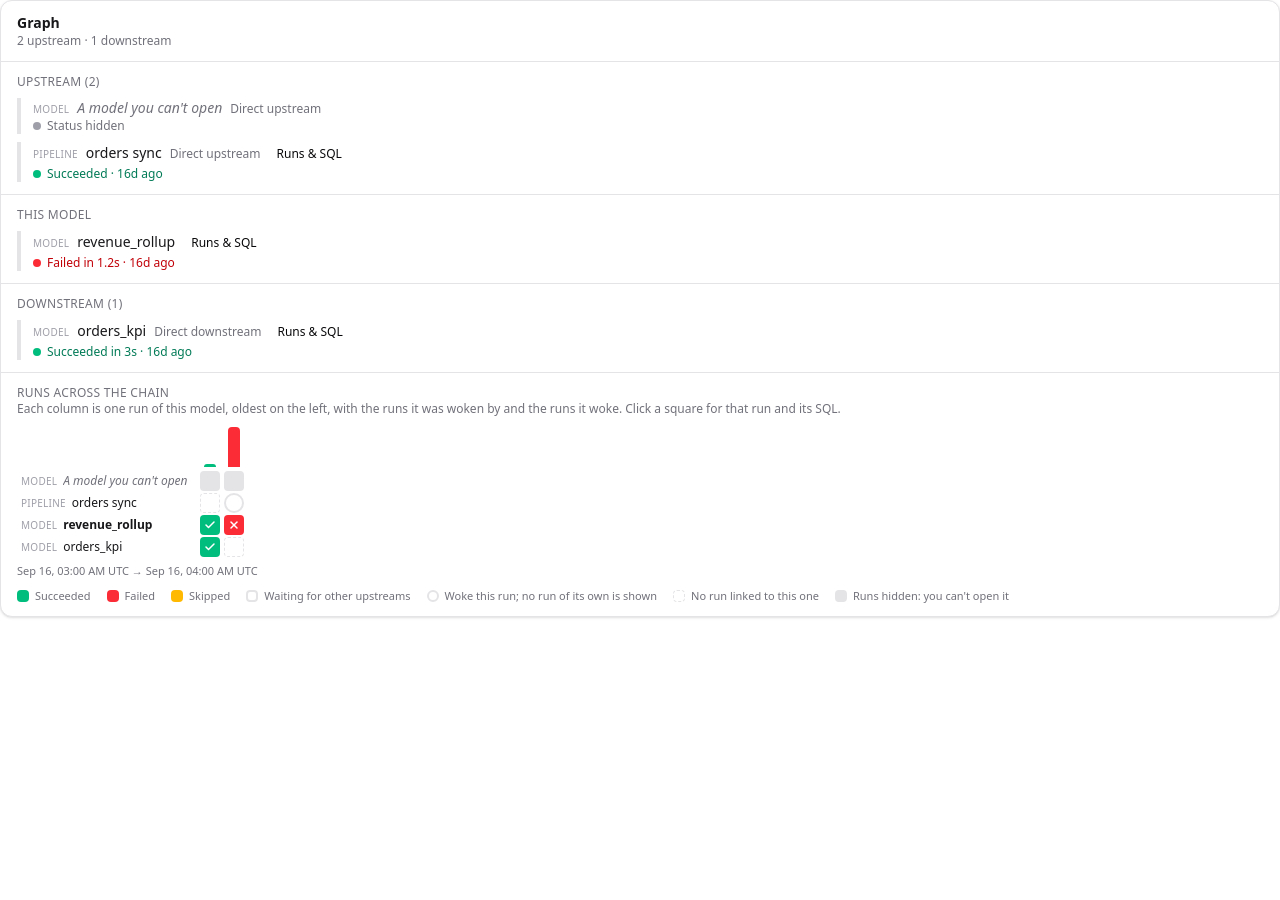
Test case: ModelLineageGraph › the run panel and the run grid › opens from the list's button, retries a SQL load that failed, and gives focus back on close
What coordinates should you click on to do the following:
click the button with aria-label "Runs and SQL: orders_kpi"
I would click on:
 (310, 332)
Its box is [270,320,351,344].
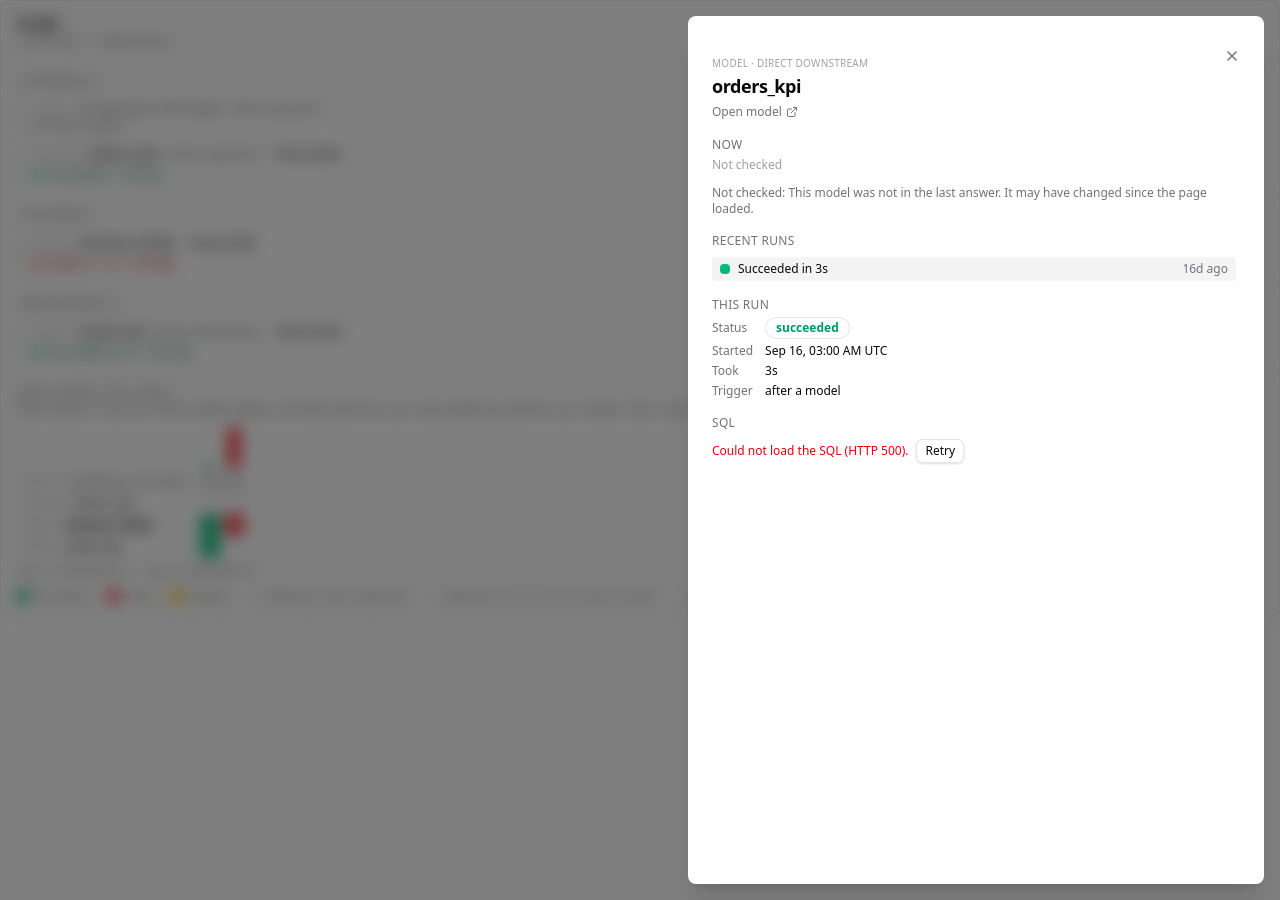
Expected: the button "Copy" is not shown
Now the message reads "Could not load the SQL (HTTP 500).", box [712,442,908,459]
What coordinates should you click on to do the following:
click the button "Retry"
I would click on:
 (940, 451)
Its box is [916,439,964,463].
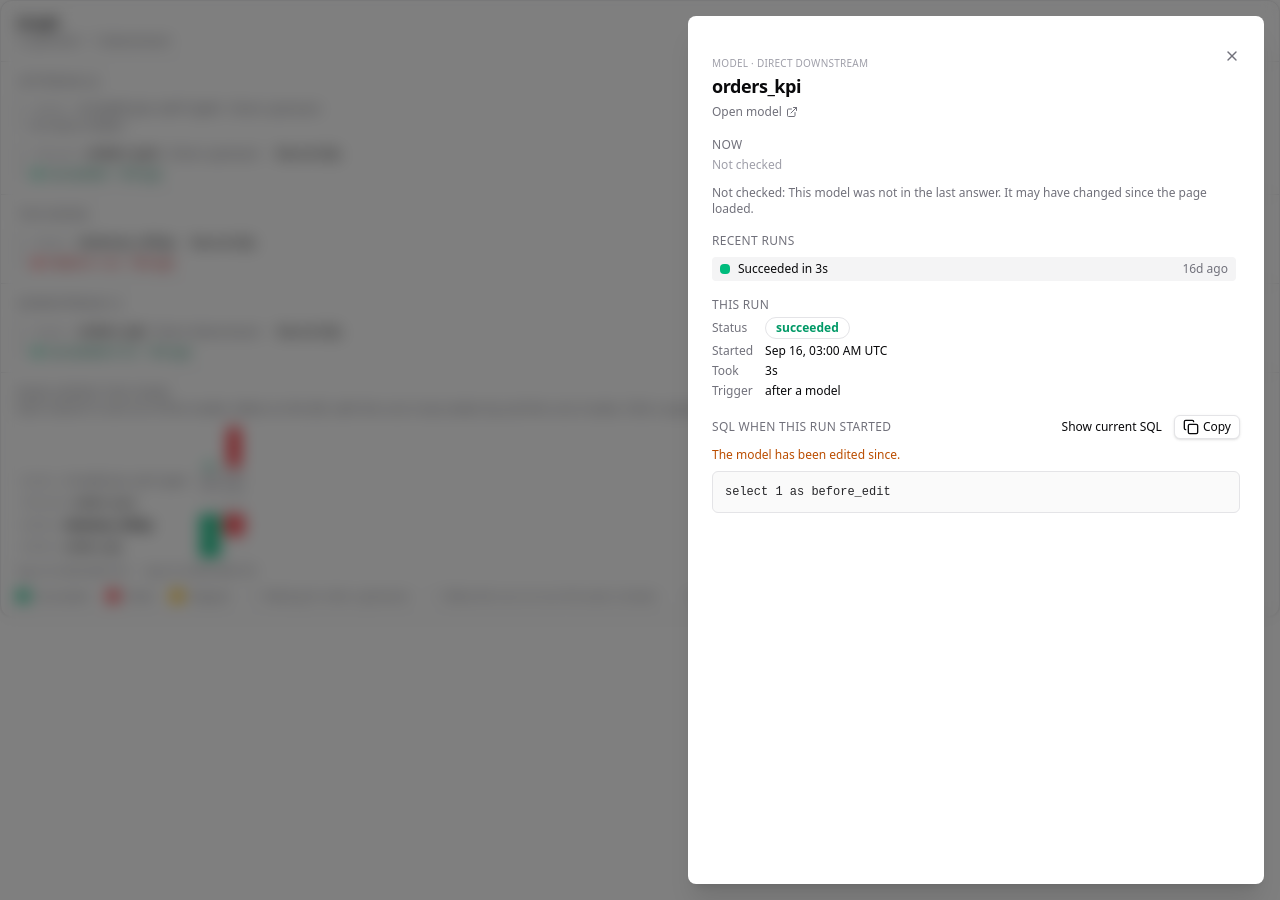
Now the text named "SQL when this run started" reads "select 1 as before_edit", box [725,485,891,499]
What coordinates should you click on to do the following:
click the button named "Close"
I would click on:
 (1232, 56)
Its box is [1216,40,1248,72].
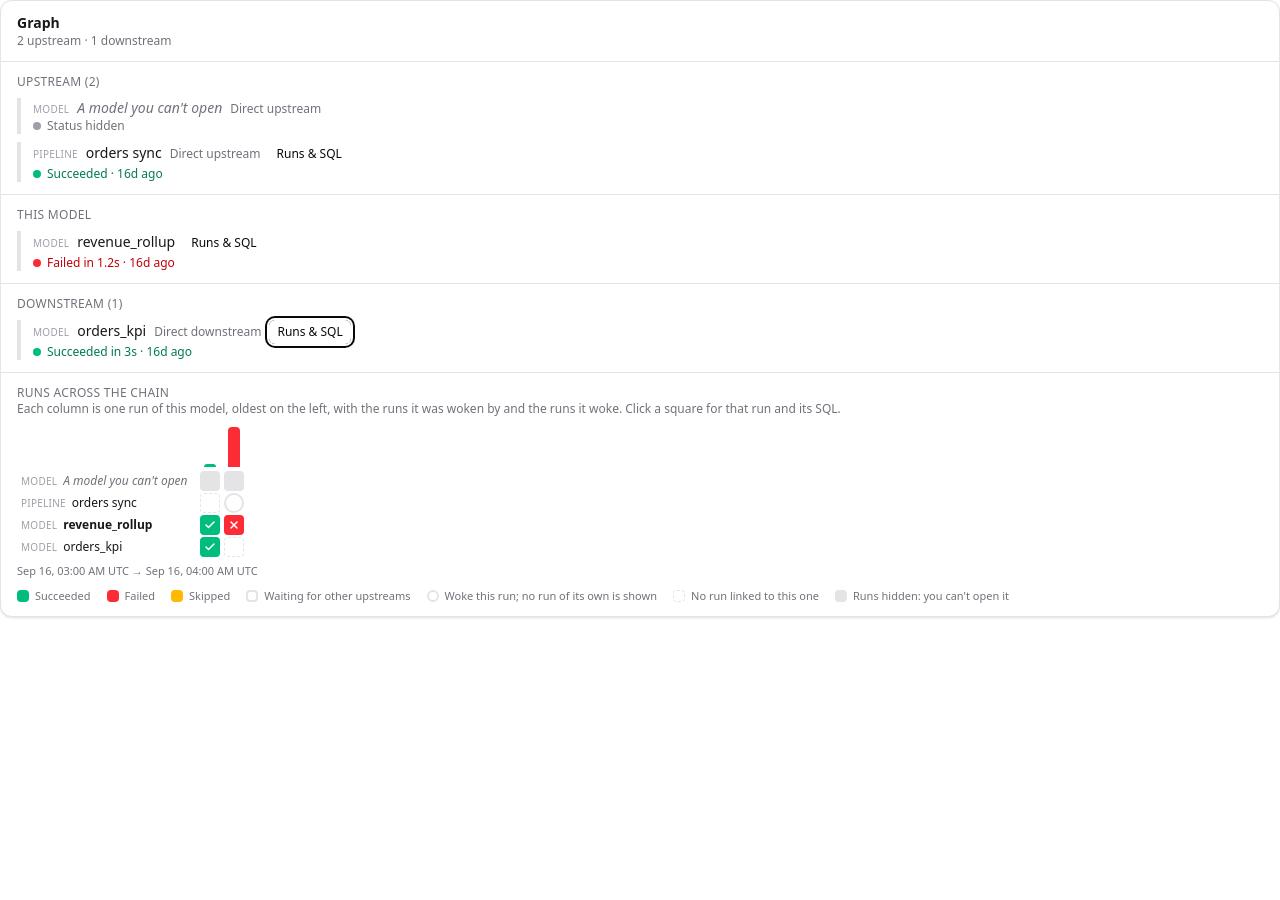
Now the dialog is gone
